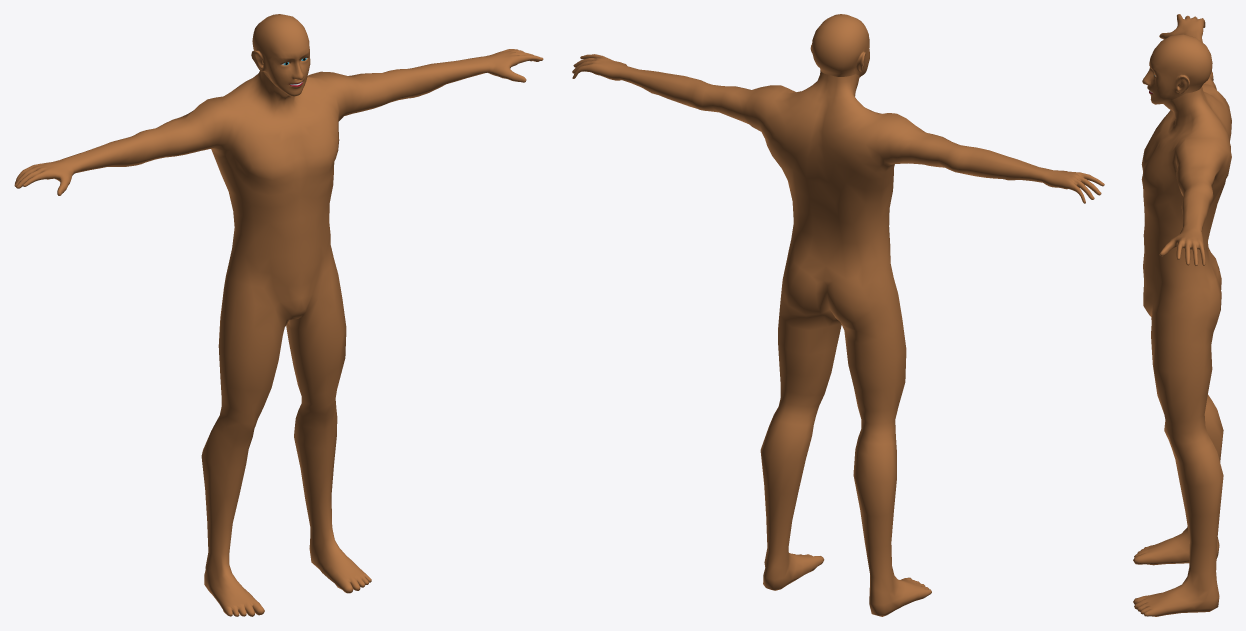
The model's file is Soldier_Base.fbx.
3 views of the same model, side by side, from view 1: azimuth 30°, elevation 25°; view 2: azimuth 150°, elevation 25°; view 3: azimuth 270°, elevation 25° (orthographic). The views are drawn at different scales.
Visible parts, largest first — view 1: Final_Soldier_Base_RealLP; view 2: Final_Soldier_Base_RealLP; view 3: Final_Soldier_Base_RealLP.
Boxes of the visible parts, left/top/right/bottom form: Final_Soldier_Base_RealLP: left=14, top=14, right=543, bottom=616; Final_Soldier_Base_RealLP: left=572, top=14, right=1104, bottom=616; Final_Soldier_Base_RealLP: left=1133, top=14, right=1231, bottom=616.
Bounding box in the file's own units: 172 × 180 × 29.37.
